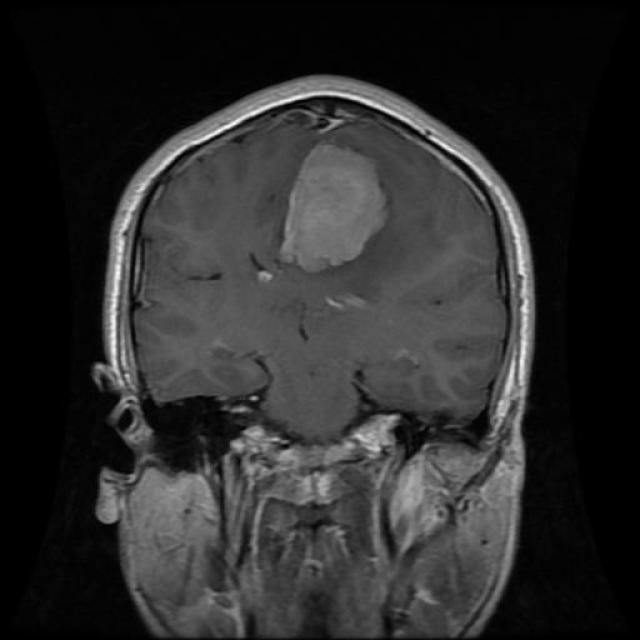meningioma: (278, 144, 390, 276)
